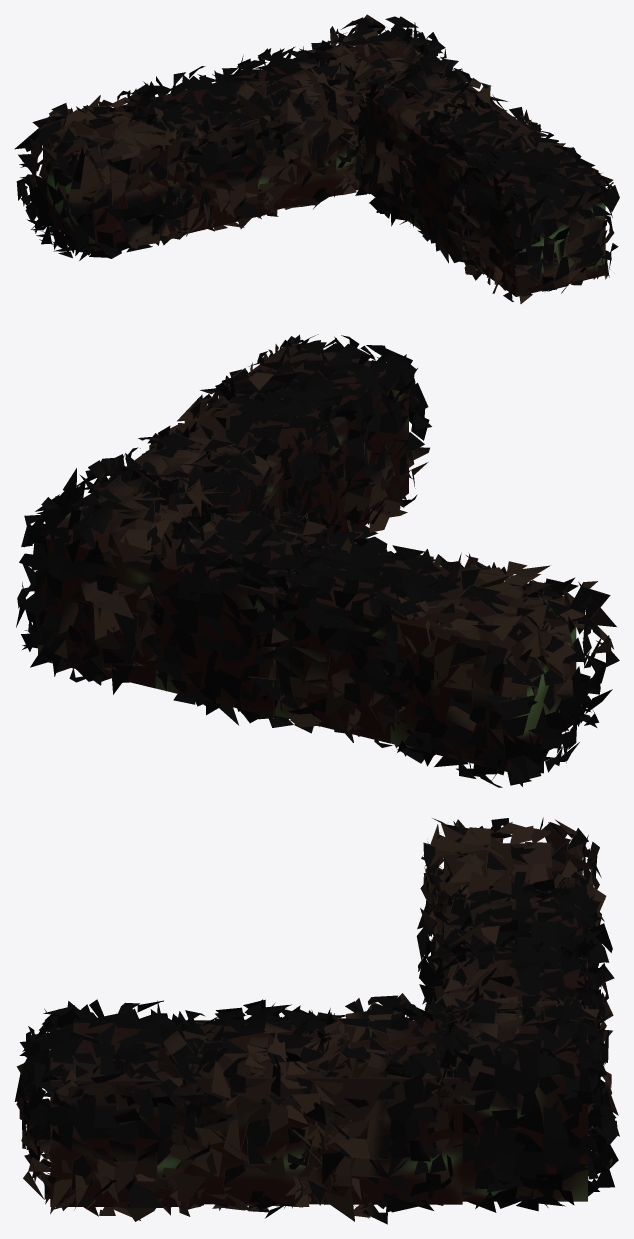
Rendered from lvll2righthedge.fbx.
3 views of the same model, one above another, from view 1: azimuth 30°, elevation 25°; view 2: azimuth 150°, elevation 25°; view 3: azimuth 270°, elevation 25° (orthographic). The views are drawn at different scales.
Parts seen in each view (by area): view 1: Cube.167, Cube.181, Cube.169, Cube.171, Cube.185, Cube.183, Cube.173, Cube.168, Cube.182, Cube.172, Cube.184, Cube.170 (+2 smaller); view 2: Cube.167, Cube.173, Cube.169, Cube.171, Cube.181, Cube.183, Cube.168, Cube.172, Cube.185, Cube.174, Cube.170, Cube.184 (+2 smaller); view 3: Cube.173, Cube.181, Cube.183, Cube.185, Cube.167, Cube.186, Cube.169, Cube.171, Cube.184, Cube.182, Cube.174, Cube.172 (+2 smaller).
Boxes of the visible parts, <box> form: Cube.167: <box>14,90,198,260</box>; Cube.181: <box>443,139,619,303</box>; Cube.169: <box>121,66,293,236</box>; Cube.171: <box>214,46,365,216</box>; Cube.185: <box>351,58,507,226</box>; Cube.183: <box>403,94,565,265</box>; Cube.173: <box>303,14,452,185</box>; Cube.168: <box>43,104,184,253</box>; Cube.182: <box>465,147,605,296</box>; Cube.172: <box>235,65,359,210</box>; Cube.184: <box>410,107,540,260</box>; Cube.170: <box>146,83,273,233</box>; Cube.167: <box>374,552,619,787</box>; Cube.173: <box>16,457,230,694</box>; Cube.169: <box>248,536,463,747</box>; Cube.171: <box>142,499,363,727</box>; Cube.181: <box>218,334,431,538</box>; Cube.183: <box>158,368,350,540</box>; Cube.168: <box>390,576,576,771</box>; Cube.172: <box>155,517,329,716</box>; Cube.185: <box>99,431,296,523</box>; Cube.174: <box>38,494,220,688</box>; Cube.170: <box>275,553,449,743</box>; Cube.184: <box>169,393,346,541</box>; Cube.173: <box>434,992,619,1212</box>; Cube.181: <box>14,999,210,1221</box>; Cube.183: <box>157,999,337,1218</box>; Cube.185: <box>301,993,468,1224</box>; Cube.167: <box>416,817,606,1012</box>; Cube.186: <box>324,1020,462,1204</box>; Cube.169: <box>419,879,614,1042</box>; Cube.171: <box>429,919,605,1133</box>; Cube.184: <box>187,1020,324,1204</box>; Cube.182: <box>50,1022,188,1206</box>; Cube.174: <box>449,1017,587,1201</box>; Cube.172: <box>449,958,587,1017</box>.
Bounding box in the file's own units: 296 × 98.48 × 281.
Materials: 2 (2 with a texture image).
